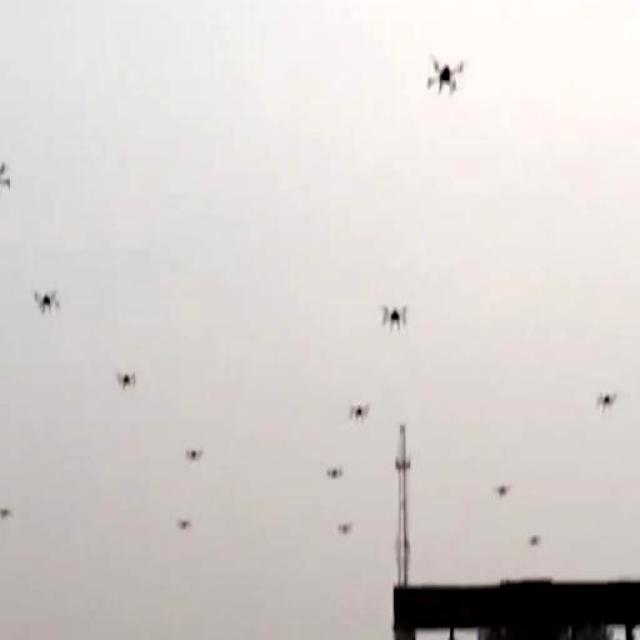bird: (425, 49, 465, 100), (381, 295, 410, 335), (32, 282, 60, 320), (595, 380, 618, 416), (350, 395, 372, 430), (0, 155, 14, 204), (116, 364, 135, 395)
